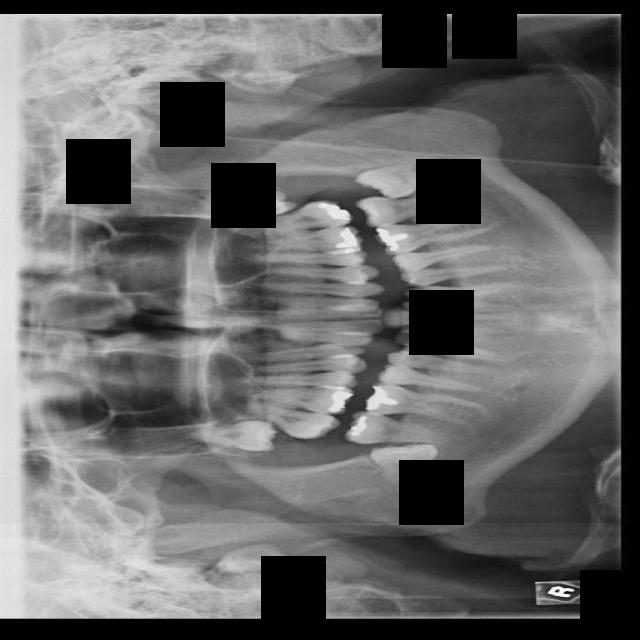3M ESPE Implant: (187, 418, 275, 451)
52: (341, 400, 393, 453), (372, 212, 423, 263), (362, 374, 411, 424), (304, 382, 355, 417), (317, 222, 366, 257), (300, 199, 351, 228)
73: (568, 22, 578, 37)
BioHorizons Implant: (228, 196, 353, 236)
BioLife Implant: (211, 180, 298, 227)
Biomet 3i Implant: (353, 152, 440, 208)
Blue Sky Bio Implant: (355, 190, 459, 228)
Caries: (239, 396, 341, 444)
Implant: (345, 409, 459, 445)
Keystone Dental Implant: (369, 438, 444, 486)
